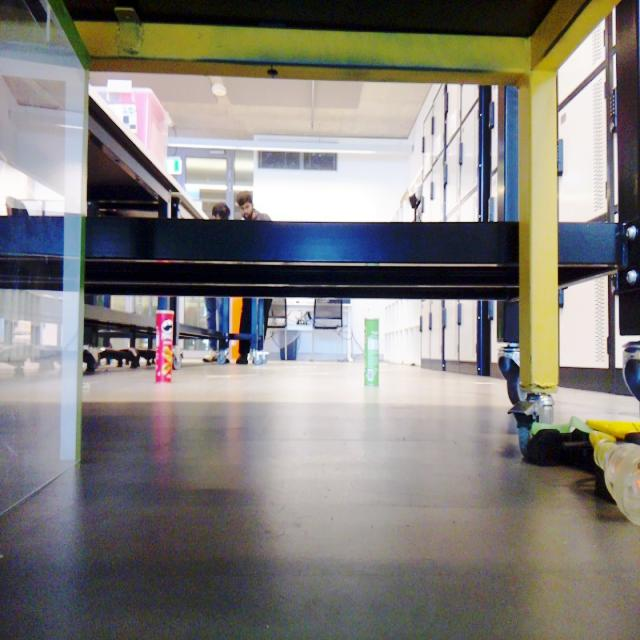greenpringles: (361, 313, 387, 398)
redpringles: (149, 306, 177, 394)
